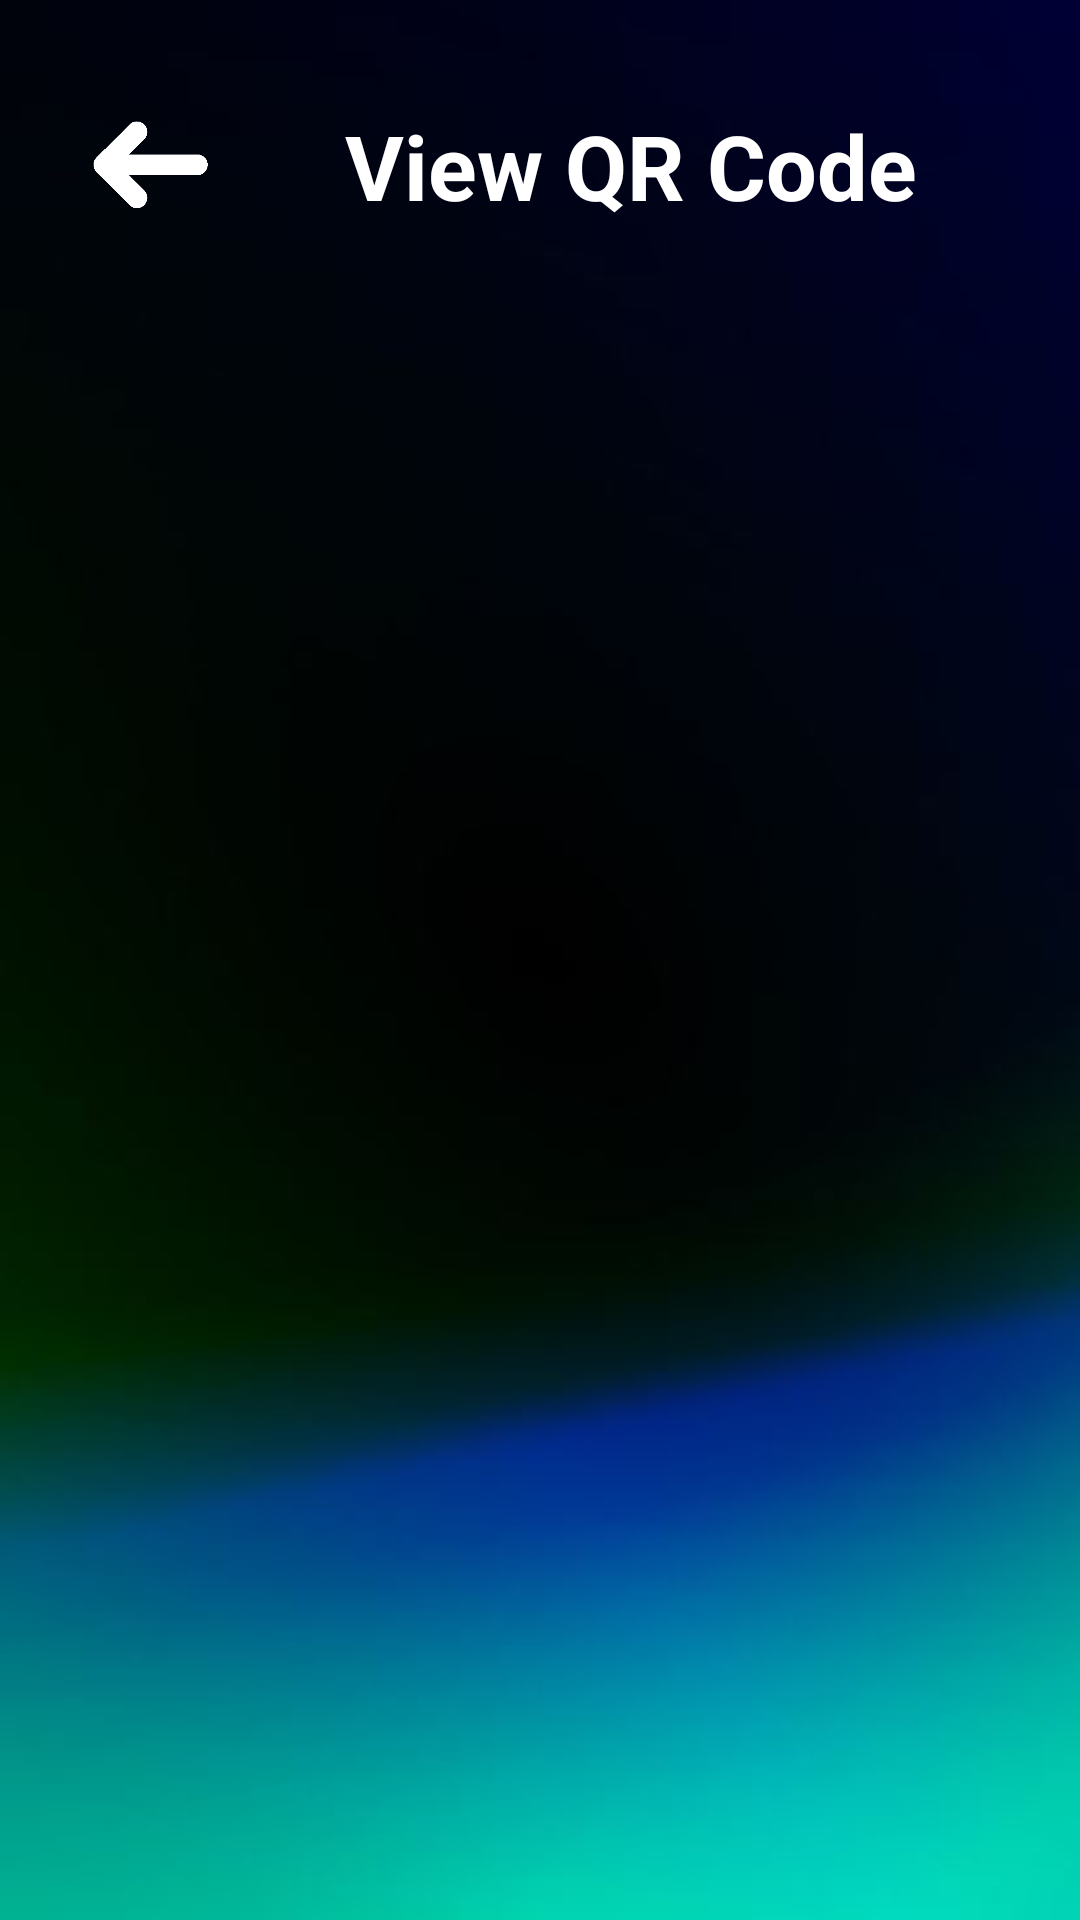

Screen size 1080×1920. Icon name, then its box in pixels as (x1, y1, x2, y2):
back arrow: (93, 121, 208, 208)
